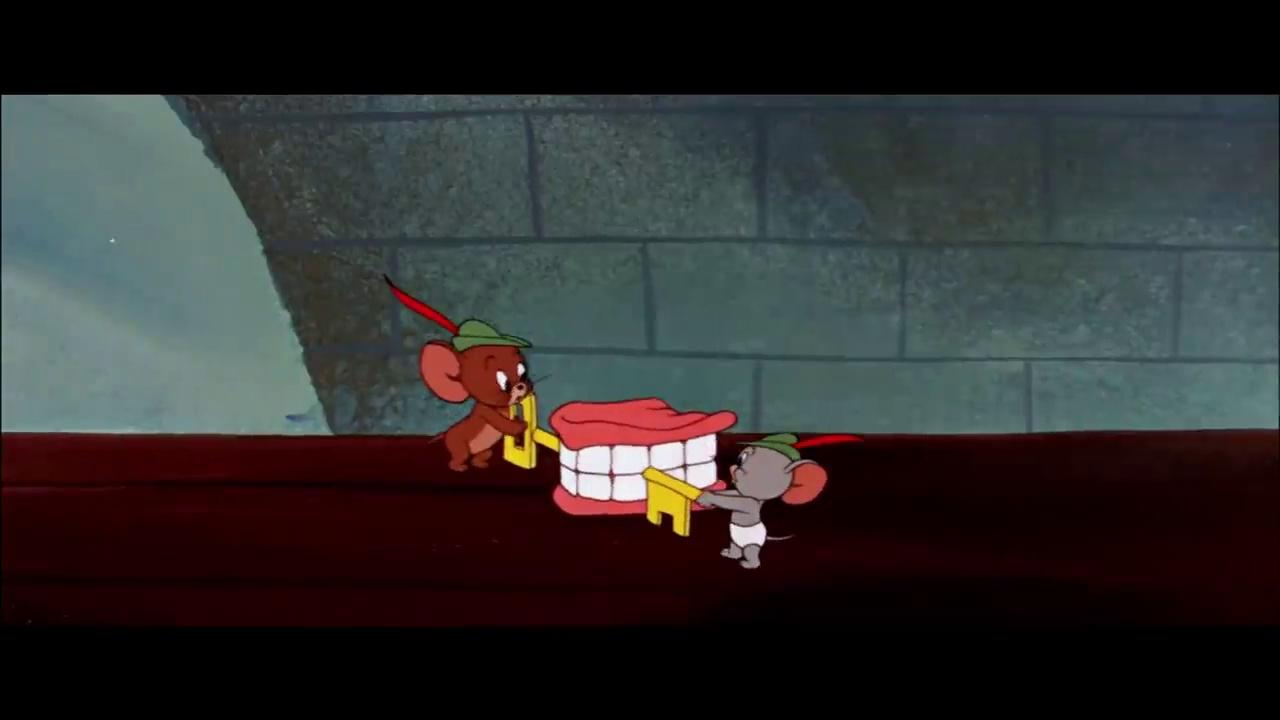Jerry: (419, 339, 552, 473)
